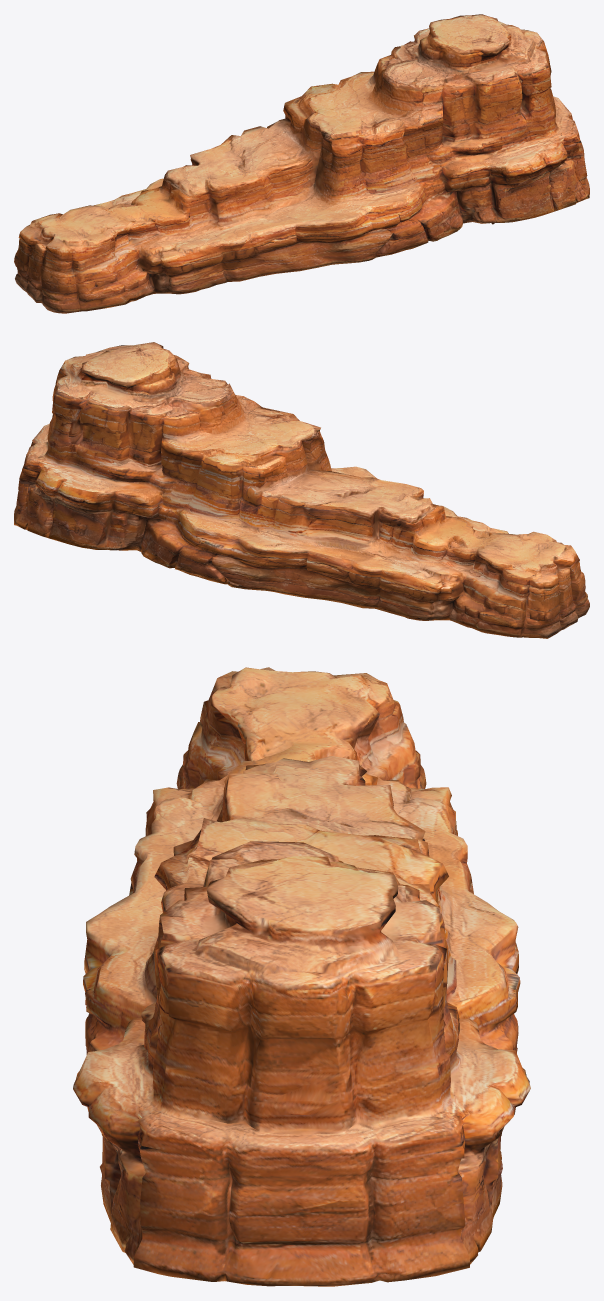
File: sandstone-cliff-low-shelf.glb
3 views of the same model, one above another, from view 1: azimuth 30°, elevation 25°; view 2: azimuth 150°, elevation 25°; view 3: azimuth 270°, elevation 25° (orthographic). The views are drawn at different scales.
Visible parts, largest first — view 1: sandstone-cliff-low-shelf; view 2: sandstone-cliff-low-shelf; view 3: sandstone-cliff-low-shelf.
Part boxes in pixels (x1,y1,x2,y2): sandstone-cliff-low-shelf: (14, 14, 589, 313); sandstone-cliff-low-shelf: (14, 342, 589, 638); sandstone-cliff-low-shelf: (73, 667, 530, 1286).
Bounding box in the file's own units: 16 × 4.54 × 5.91.
Materials: 1 (1 with a texture image).
